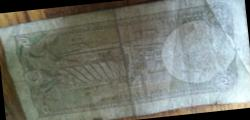5 taka: (9, 0, 244, 120)
